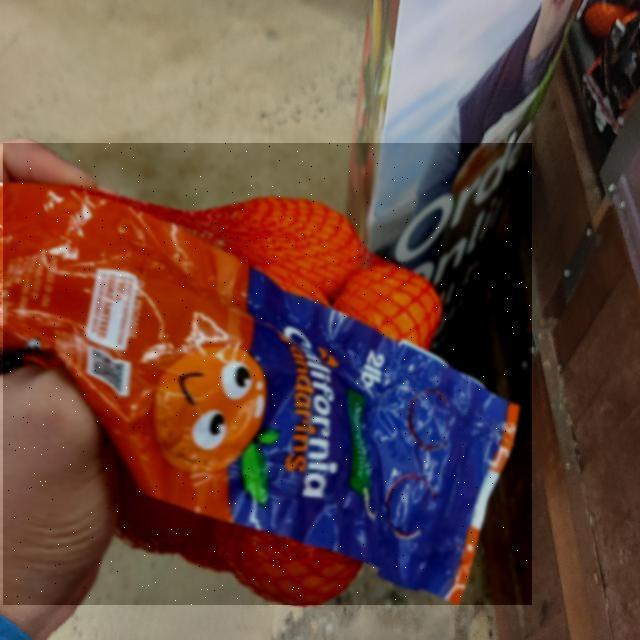Clementine: (3, 143, 532, 605)
